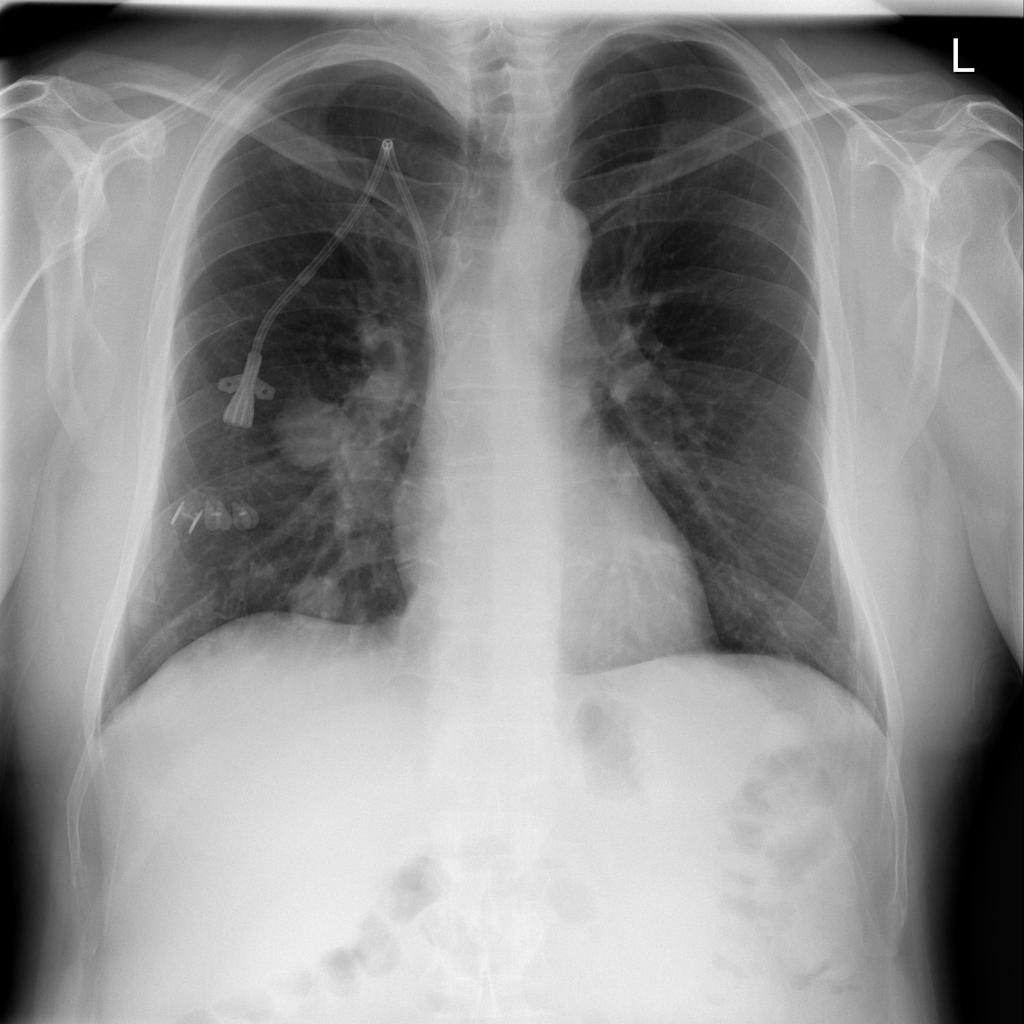nodule: (266, 375, 367, 484), (280, 563, 361, 641), (748, 699, 827, 765), (114, 567, 177, 642)
